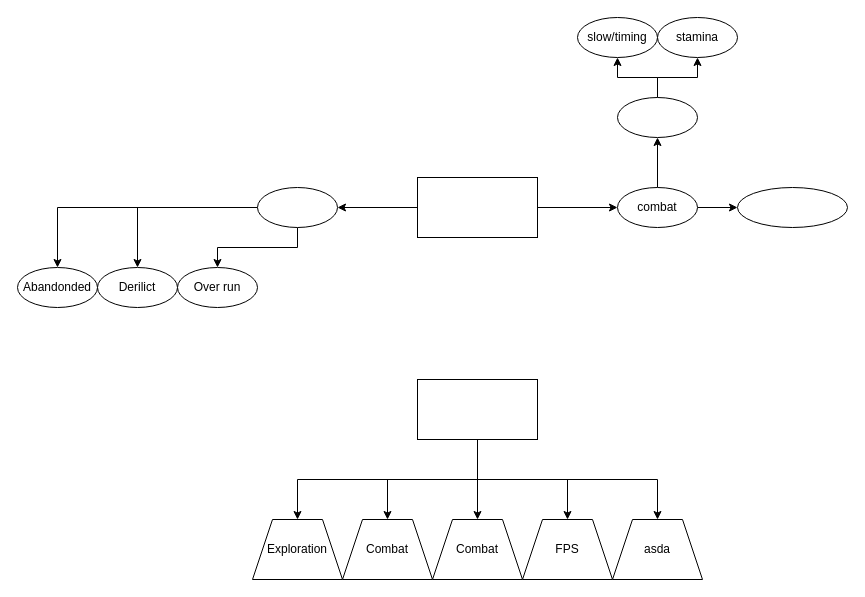
Some shapes in this 865 by 597 pixel diagram are drawn without their labels. The centre of each missing label's shape, as x and y in pixels:
explore: (x=297, y=207)
FPS RPG: (x=477, y=207)
melee: (x=657, y=117)
Pillars: (x=477, y=409)
Stealth/avoidance?: (x=792, y=207)
